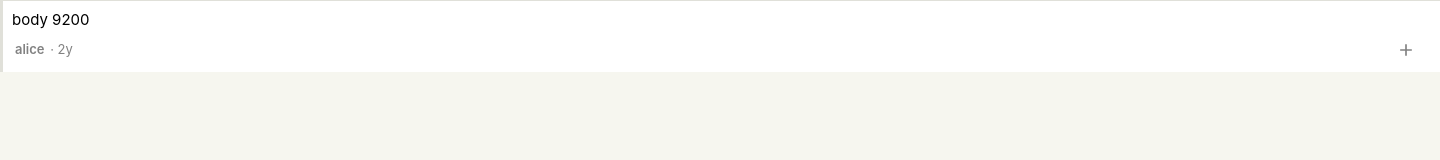
Test case: <Comment> upvote wiring › signed-in user tapping upvote POSTs /api/vote with how=up and flips aria-pressed
Expected: the text "body 9200" is shown, [12,10,90,29]
Click the button named "expand comment".
click(1406, 50)  # box [1384,32,1428,68]
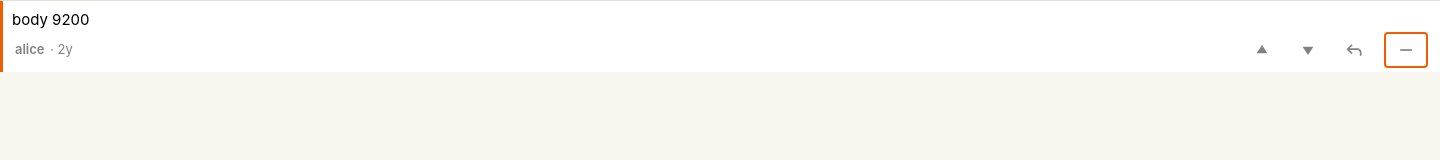
Click the button with test id "comment-upvote".
click(1262, 50)  # box [1240,32,1284,68]
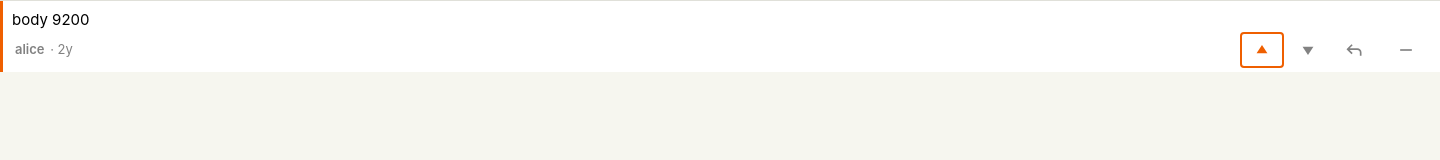
Expected: the button with test id "comment-upvote" is pressed, [1240,32,1284,68]
